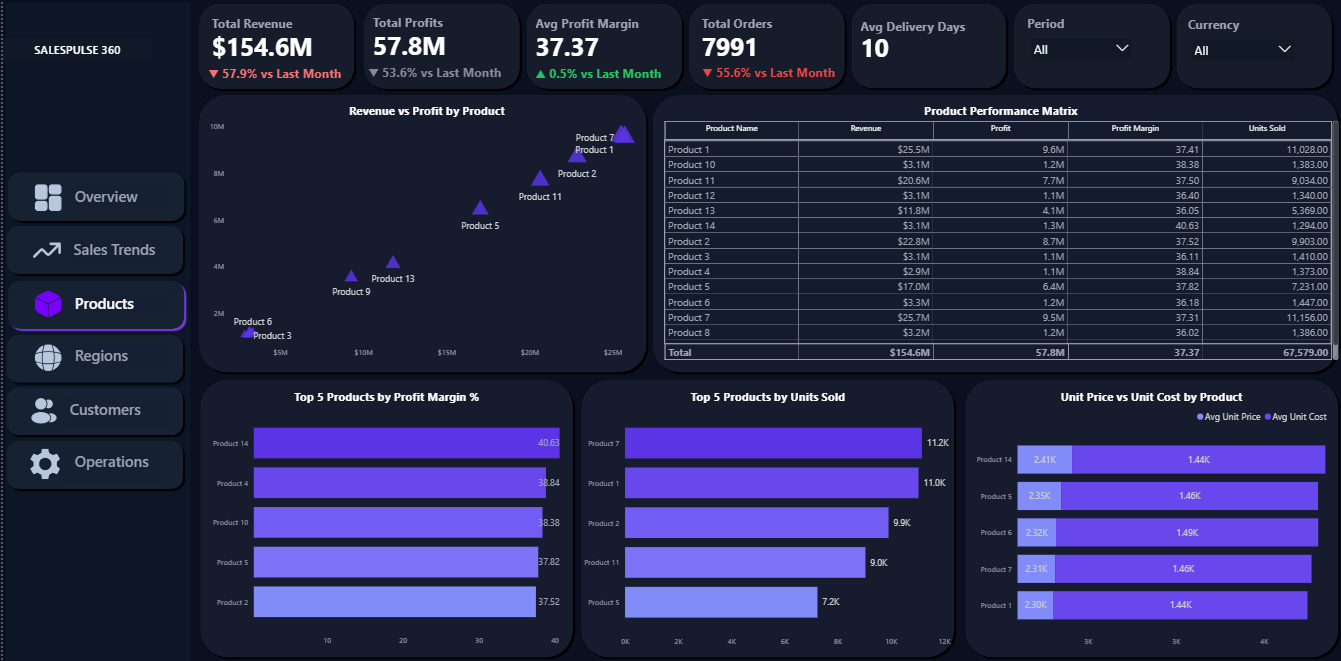

The page's visual inventory and layout, read from the dashboard file:
{"tool":"powerbi","page":{"name":"Products","canvas":[2185,1080],"ordinal":2},"visuals":[{"type":"shape","box":[315.4,614.6,620,465],"z":0},{"type":"shape","box":[1055.3,149.6,1130.1,465],"z":1000},{"type":"shape","box":[1380,0,264,150],"z":2000},{"type":"shape","box":[313.4,149.6,741.9,465],"z":3000},{"type":"shape","box":[583.1,0,265.7,150.8],"z":4000},{"type":"shape","box":[315.2,0,265,150.8],"z":5000},{"type":"shape","box":[848.7,0,265.7,150.8],"z":6000},{"type":"advanceCardE03760C5AB684758B56AA29F9E6C257B","title":"Avg Profit Margin","fields":{"mainMeasure":["CALENDAR_TABLE.Avg Profit Margin"]},"box":[869,24.8,186,76],"z":7000},{"type":"shape","box":[1114.4,0,265.7,150.8],"z":8000},{"type":"shape","box":[0,0,311.3,1101.8],"z":9000},{"type":"shape","box":[2,274.9,300,91],"z":10000},{"type":"textbox","box":[112.8,300.9,166.6,47.3],"z":11000},{"type":"shape","box":[0.1,363.5,300,90],"z":12000},{"type":"shape","box":[1,453.2,300,90.1],"z":13000},{"type":"shape","box":[0,540.6,300,90],"z":14000},{"type":"shape","box":[-1,627.3,300,90.1],"z":15000},{"type":"shape","box":[0,714.5,300,90],"z":16000},{"type":"textbox","box":[111.4,473.4,166.6,42.8],"z":17000},{"type":"textbox","box":[111.4,559.3,166.6,49.5],"z":18000},{"type":"textbox","box":[104.8,647.6,171.1,49.5],"z":19000},{"type":"textbox","box":[91.8,731.8,171.1,54],"z":20000},{"type":"image","box":[49.3,298.2,49.5,49.5],"z":21000},{"type":"image","box":[47.2,384.5,49.5,49.5],"z":22000},{"type":"image","box":[48.3,471.6,49.5,49.5],"z":23000},{"type":"image","box":[48.4,559.3,49.5,49.5],"z":24000},{"type":"image","box":[41.8,647.6,54,49.5],"z":25000},{"type":"image","box":[40.1,731.8,56.3,49.5],"z":26000},{"type":"textbox","box":[110.3,386.3,153.1,45],"z":27000},{"type":"textbox","box":[246.2,132.5,66.2,33.8],"z":28000},{"type":"advanceCardE03760C5AB684758B56AA29F9E6C257B","title":"Total Orders","fields":{"mainMeasure":["CALENDAR_TABLE.Total Orders"]},"box":[1140,24,186,76],"z":29000},{"type":"advanceCardE03760C5AB684758B56AA29F9E6C257B","title":"Total Profits","fields":{"mainMeasure":["CALENDAR_TABLE.Total Profit"]},"box":[603.3,22.5,186.9,76.5],"z":30000},{"type":"advanceCardE03760C5AB684758B56AA29F9E6C257B","title":"Avg Delivery Days","fields":{"mainMeasure":["CALENDAR_TABLE.Avg Delivery Days"]},"box":[1400,28,226,72],"z":31000},{"type":"shape","box":[1564.8,614.6,620.6,465],"z":32000},{"type":"shape","box":[938,614.6,620,465],"z":33000},{"type":"advanceCardE03760C5AB684758B56AA29F9E6C257B","title":"Total Revenue","fields":{"mainMeasure":["CALENDAR_TABLE.Total Revenue"]},"box":[339.9,24.8,186.9,76.5],"z":34000},{"type":"card","fields":{"Values":["CALENDAR_TABLE.Revenue Trend Label"]},"box":[310.7,101.3,267.9,40.5],"z":35000},{"type":"card","fields":{"Values":["CALENDAR_TABLE.Profit Trend Label"]},"box":[571.8,99.1,267.9,40.5],"z":36000},{"type":"card","fields":{"Values":["CALENDAR_TABLE.Orders Trend Label"]},"box":[1116,100,268,40],"z":37000},{"type":"card","fields":{"Values":["CALENDAR_TABLE.Profit Margin Trend Label"]},"box":[839.7,101.3,267,40],"z":38000},{"type":"shape","box":[1644,0,266,150],"z":39000},{"type":"slicer","title":"Period","fields":{"Values":["CALENDAR_TABLE.YEAR","CALENDAR_TABLE.MONTH_NAME"]},"box":[1668,24,186,76],"z":40000},{"type":"pageNavigator","box":[0,278,299.2,86],"z":41000},{"type":"shape","box":[1910,0,265,150],"z":42000},{"type":"slicer","title":"Currency","fields":{"Values":["SALES_ANALYTICS_MASTER.CURRENCY_CODE"]},"box":[1932.5,27.5,186,75],"z":43000},{"type":"pageNavigator","box":[0,365.9,299.2,86.9],"z":44000},{"type":"pageNavigator","box":[0,454.9,68.7,86.9],"z":45000},{"type":"pageNavigator","box":[0,539.8,299.2,86.9],"z":46000},{"type":"pageNavigator","box":[0,713.6,299.2,86.9],"z":47000},{"type":"scatterChart","title":"Revenue vs Profit by Product","fields":{"X":["CALENDAR_TABLE.Correct Total Revenue"],"Category":["SALES_ANALYTICS_MASTER.PRODUCT_NAME"],"Size":["Sum(SALES_ANALYTICS_MASTER.ORDER_QUANTITY)"],"Y":["CALENDAR_TABLE.Total Profit"]},"box":[333.6,167.8,719.7,440.7],"z":48000},{"type":"tableEx","title":"Product Performance Matrix","fields":{"Values":["SALES_ANALYTICS_MASTER.PRODUCT_NAME","CALENDAR_TABLE.Total Revenue","CALENDAR_TABLE.Total Profit","CALENDAR_TABLE.Avg Profit Margin","Sum(SALES_ANALYTICS_MASTER.ORDER_QUANTITY)"]},"box":[1073.5,167.8,1111.9,440.7],"z":49000},{"type":"clusteredBarChart","title":"Top 5 Products by Profit Margin %","fields":{"Category":["SALES_ANALYTICS_MASTER.PRODUCT_NAME"],"Y":["CALENDAR_TABLE.Avg Profit Margin"]},"box":[333.6,634.8,588.3,444.8],"z":50000},{"type":"clusteredBarChart","title":"Top 5 Products by Units Sold","fields":{"Category":["SALES_ANALYTICS_MASTER.PRODUCT_NAME"],"Y":["Sum(SALES_ANALYTICS_MASTER.ORDER_QUANTITY)"]},"box":[938,634.8,620.6,430.6],"z":51000},{"type":"barChart","title":"Unit Price vs Unit Cost by Product","fields":{"Category":["SALES_ANALYTICS_MASTER.PRODUCT_NAME"],"Y":["Avg(SALES_ANALYTICS_MASTER.UNIT_PRICE)","Avg(SALES_ANALYTICS_MASTER.TOTAL_UNIT_COST)"]},"box":[1578.9,634.8,606.5,430.6],"z":52000},{"type":"pageNavigator","box":[0,453.3,300,86.7],"z":53000},{"type":"pageNavigator","box":[0,628.7,299.2,86.9],"z":54000},{"type":"image","box":[62.2,0,201.1,170],"z":55000},{"type":"textbox","box":[0,153.2,260.9,88.6],"z":56000},{"type":"textbox","box":[222.6,153.2,93.4,69.4],"z":57000}]}

Visuals, with their boxes on the page's 2185x1080 design canvas (x1, y1, x2, y2). These are canvas units, not pixel positions in the 1341x661 screenshot, which may show the page scaled, cropped or inside an application window:
shape: {"x1": 315, "y1": 615, "x2": 935, "y2": 1080}
shape: {"x1": 1055, "y1": 150, "x2": 2185, "y2": 615}
shape: {"x1": 1380, "y1": 0, "x2": 1644, "y2": 150}
shape: {"x1": 313, "y1": 150, "x2": 1055, "y2": 615}
shape: {"x1": 583, "y1": 0, "x2": 849, "y2": 151}
shape: {"x1": 315, "y1": 0, "x2": 580, "y2": 151}
shape: {"x1": 849, "y1": 0, "x2": 1114, "y2": 151}
"Avg Profit Margin" advanceCardE03760C5AB684758B56AA29F9E6C257B: {"x1": 869, "y1": 25, "x2": 1055, "y2": 101}
shape: {"x1": 1114, "y1": 0, "x2": 1380, "y2": 151}
shape: {"x1": 0, "y1": 0, "x2": 311, "y2": 1102}
shape: {"x1": 2, "y1": 275, "x2": 302, "y2": 366}
textbox: {"x1": 113, "y1": 301, "x2": 279, "y2": 348}
shape: {"x1": 0, "y1": 364, "x2": 300, "y2": 454}
shape: {"x1": 1, "y1": 453, "x2": 301, "y2": 543}
shape: {"x1": 0, "y1": 541, "x2": 300, "y2": 631}
shape: {"x1": -1, "y1": 627, "x2": 299, "y2": 717}
shape: {"x1": 0, "y1": 714, "x2": 300, "y2": 804}
textbox: {"x1": 111, "y1": 473, "x2": 278, "y2": 516}
textbox: {"x1": 111, "y1": 559, "x2": 278, "y2": 609}
textbox: {"x1": 105, "y1": 648, "x2": 276, "y2": 697}
textbox: {"x1": 92, "y1": 732, "x2": 263, "y2": 786}
image: {"x1": 49, "y1": 298, "x2": 99, "y2": 348}
image: {"x1": 47, "y1": 384, "x2": 97, "y2": 434}
image: {"x1": 48, "y1": 472, "x2": 98, "y2": 521}
image: {"x1": 48, "y1": 559, "x2": 98, "y2": 609}
image: {"x1": 42, "y1": 648, "x2": 96, "y2": 697}
image: {"x1": 40, "y1": 732, "x2": 96, "y2": 781}
textbox: {"x1": 110, "y1": 386, "x2": 263, "y2": 431}
textbox: {"x1": 246, "y1": 132, "x2": 312, "y2": 166}
"Total Orders" advanceCardE03760C5AB684758B56AA29F9E6C257B: {"x1": 1140, "y1": 24, "x2": 1326, "y2": 100}
"Total Profits" advanceCardE03760C5AB684758B56AA29F9E6C257B: {"x1": 603, "y1": 22, "x2": 790, "y2": 99}
"Avg Delivery Days" advanceCardE03760C5AB684758B56AA29F9E6C257B: {"x1": 1400, "y1": 28, "x2": 1626, "y2": 100}
shape: {"x1": 1565, "y1": 615, "x2": 2185, "y2": 1080}
shape: {"x1": 938, "y1": 615, "x2": 1558, "y2": 1080}
"Total Revenue" advanceCardE03760C5AB684758B56AA29F9E6C257B: {"x1": 340, "y1": 25, "x2": 527, "y2": 101}
card - CALENDAR_TABLE.Revenue Trend Label: {"x1": 311, "y1": 101, "x2": 579, "y2": 142}
card - CALENDAR_TABLE.Profit Trend Label: {"x1": 572, "y1": 99, "x2": 840, "y2": 140}
card - CALENDAR_TABLE.Orders Trend Label: {"x1": 1116, "y1": 100, "x2": 1384, "y2": 140}
card - CALENDAR_TABLE.Profit Margin Trend Label: {"x1": 840, "y1": 101, "x2": 1107, "y2": 141}
shape: {"x1": 1644, "y1": 0, "x2": 1910, "y2": 150}
"Period" slicer: {"x1": 1668, "y1": 24, "x2": 1854, "y2": 100}
pageNavigator: {"x1": 0, "y1": 278, "x2": 299, "y2": 364}
shape: {"x1": 1910, "y1": 0, "x2": 2175, "y2": 150}
"Currency" slicer: {"x1": 1932, "y1": 28, "x2": 2118, "y2": 102}
pageNavigator: {"x1": 0, "y1": 366, "x2": 299, "y2": 453}
pageNavigator: {"x1": 0, "y1": 455, "x2": 69, "y2": 542}
pageNavigator: {"x1": 0, "y1": 540, "x2": 299, "y2": 627}
pageNavigator: {"x1": 0, "y1": 714, "x2": 299, "y2": 800}
"Revenue vs Profit by Product" scatterChart: {"x1": 334, "y1": 168, "x2": 1053, "y2": 608}
"Product Performance Matrix" tableEx: {"x1": 1074, "y1": 168, "x2": 2185, "y2": 608}
"Top 5 Products by Profit Margin %" clusteredBarChart: {"x1": 334, "y1": 635, "x2": 922, "y2": 1080}
"Top 5 Products by Units Sold" clusteredBarChart: {"x1": 938, "y1": 635, "x2": 1559, "y2": 1065}
"Unit Price vs Unit Cost by Product" barChart: {"x1": 1579, "y1": 635, "x2": 2185, "y2": 1065}
pageNavigator: {"x1": 0, "y1": 453, "x2": 300, "y2": 540}
pageNavigator: {"x1": 0, "y1": 629, "x2": 299, "y2": 716}
image: {"x1": 62, "y1": 0, "x2": 263, "y2": 170}
textbox: {"x1": 0, "y1": 153, "x2": 261, "y2": 242}
textbox: {"x1": 223, "y1": 153, "x2": 316, "y2": 223}
